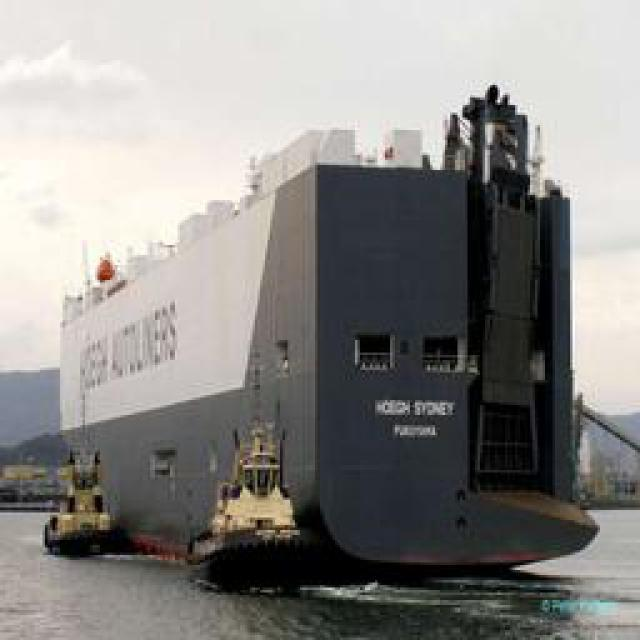Ship: (36, 81, 609, 586), (186, 373, 318, 602), (39, 423, 125, 565)
